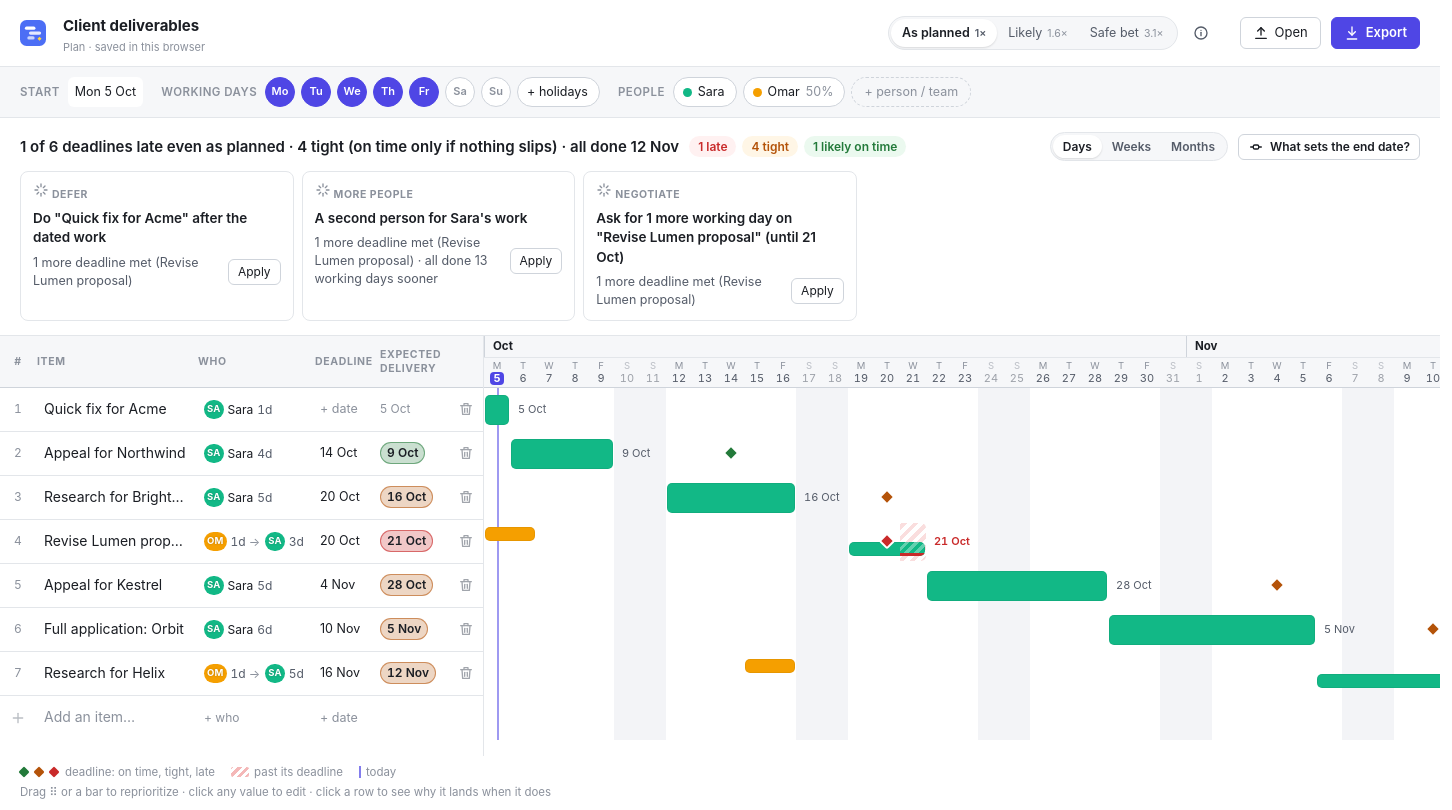
Test: timeline details › the can't-start-before date can be cleared, and shows nothing when empty
The width and height of the screenshot is (1452, 810).
Step 1. Click the element with class "status" showing "12 Nov" → (408, 673), box [380, 662, 436, 684]
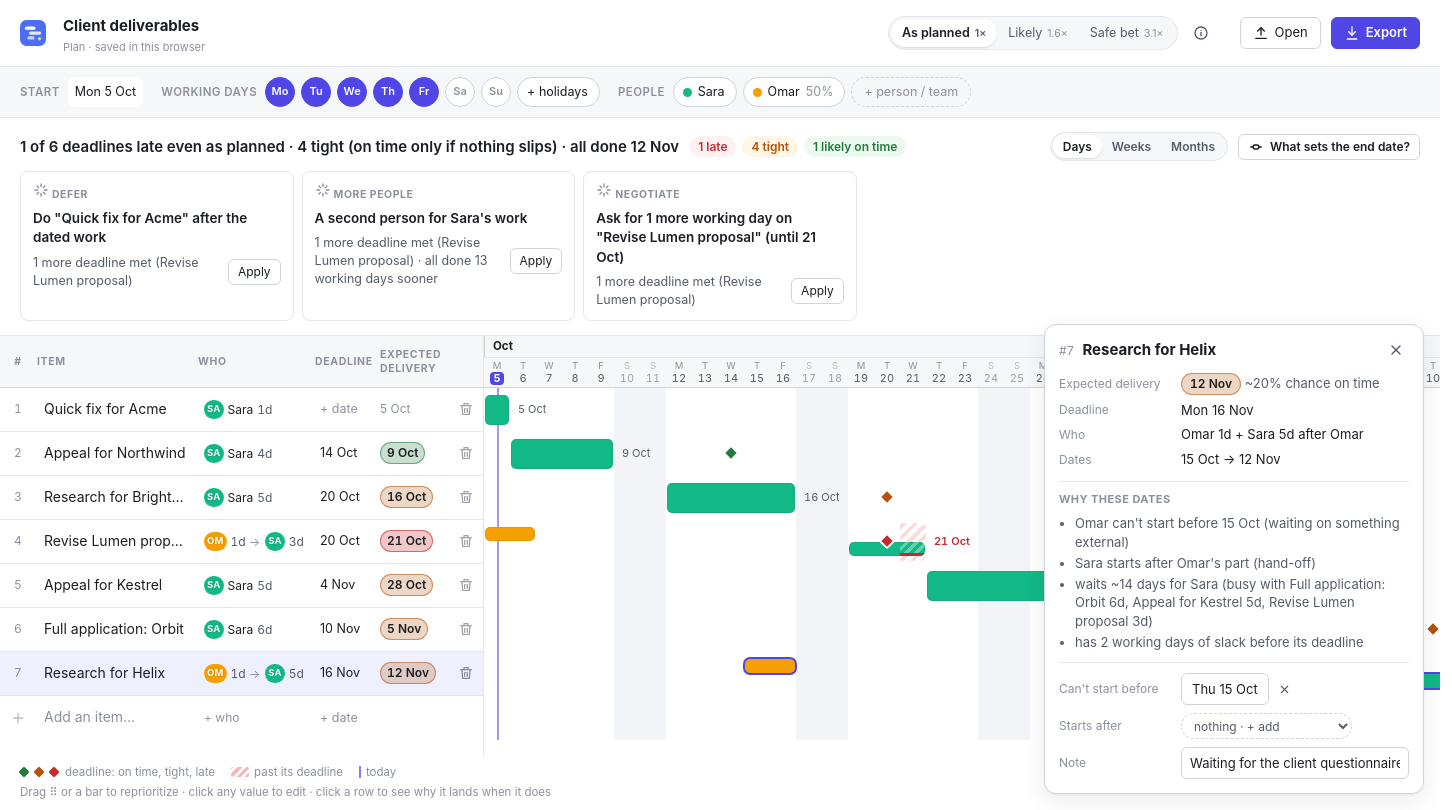
Check: the element with class "date-field" reads "Thu 15 Oct", box [1192, 681, 1258, 697]
Step 2. Click the button named "Clear the can't-start-before date" → (1284, 689), box [1273, 678, 1296, 700]
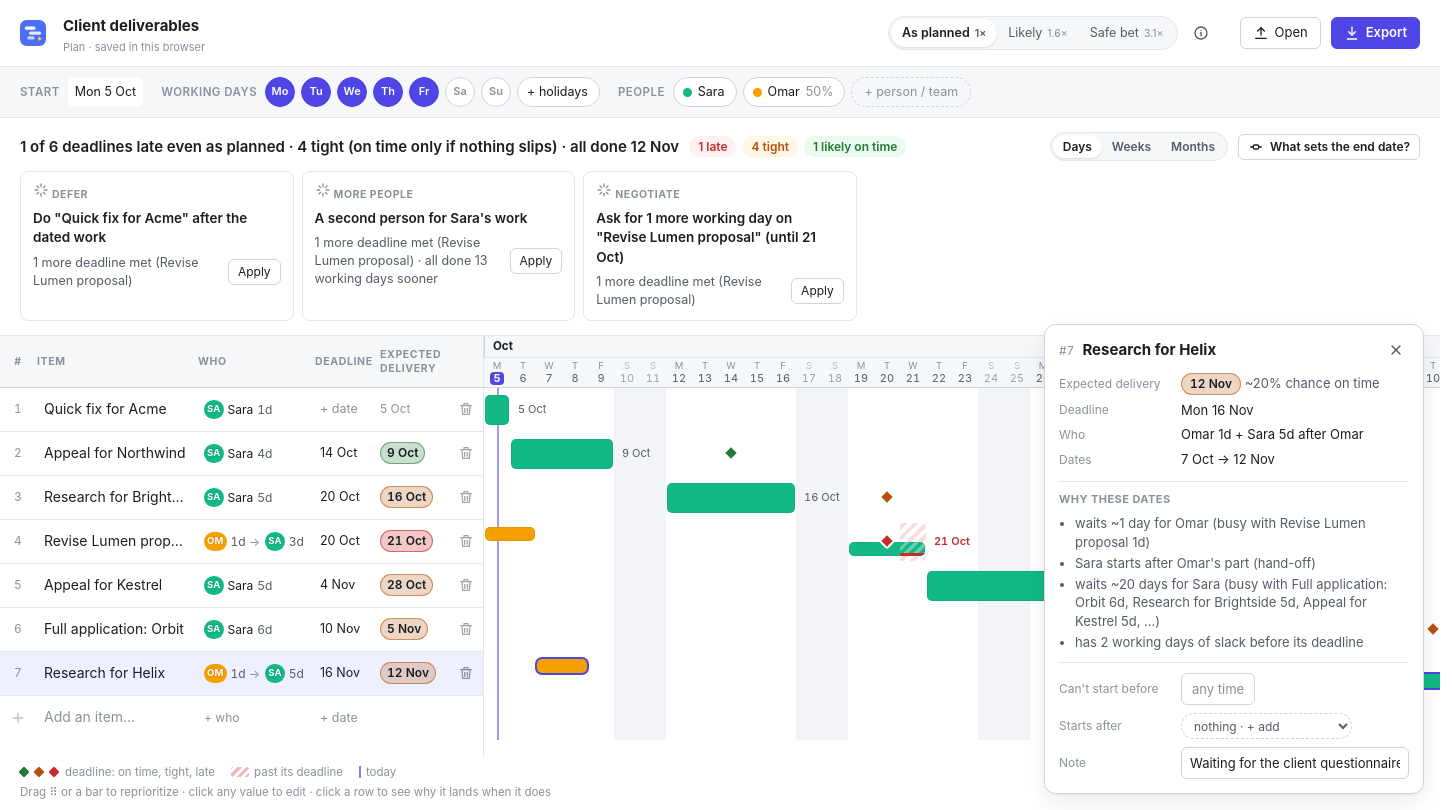
Check: the element with class "date-field" reads "any time", box [1192, 681, 1244, 697]
